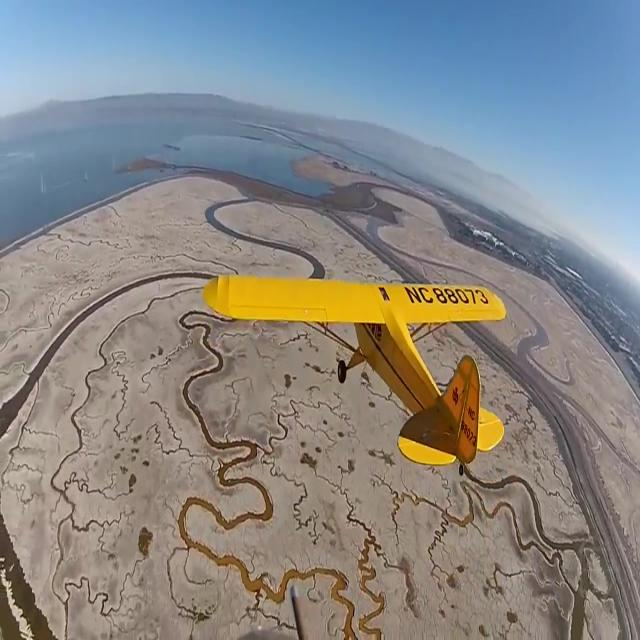iha: (200, 271, 507, 477)
